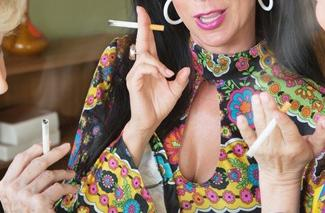smoke: (245, 100, 293, 158), (107, 19, 165, 32), (41, 118, 51, 159)
